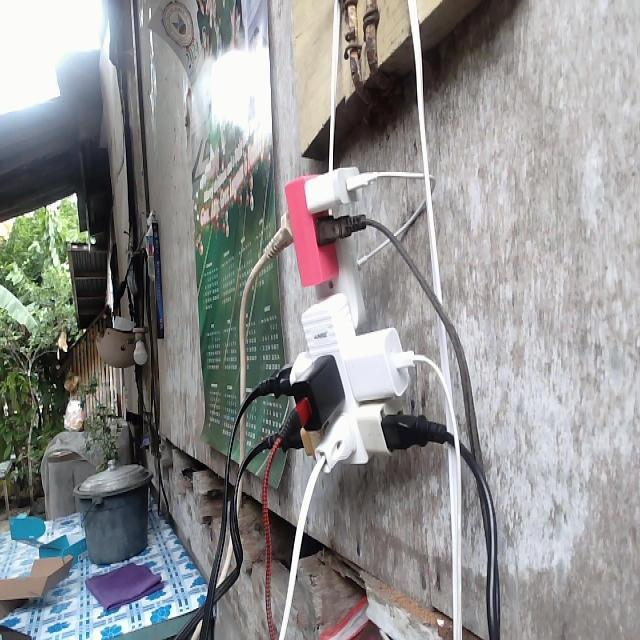-: (245, 164, 453, 477)
